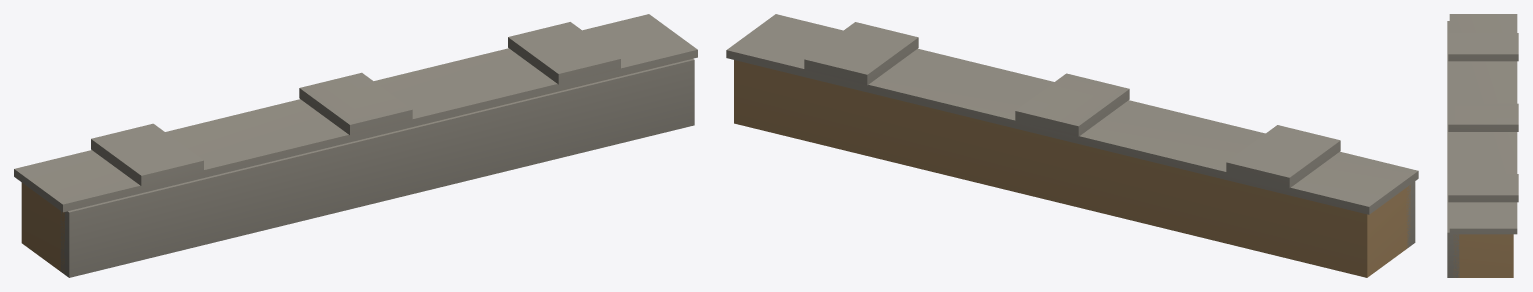
Rendered from independence_earthwork_lod1.glb.
3 renders of one model, left to right at view 1: azimuth 30°, elevation 25°; view 2: azimuth 150°, elevation 25°; view 3: azimuth 270°, elevation 25°, orthographic. The views are drawn at different scales.
Parts seen in each view (by area): view 1: GEO-Arch_independence_earthwork_LOD1; view 2: GEO-Arch_independence_earthwork_LOD1; view 3: GEO-Arch_independence_earthwork_LOD1.
Part boxes in pixels (x1=…): GEO-Arch_independence_earthwork_LOD1: x1=14, y1=14, x2=697, y2=277; GEO-Arch_independence_earthwork_LOD1: x1=726, y1=14, x2=1418, y2=277; GEO-Arch_independence_earthwork_LOD1: x1=1447, y1=14, x2=1518, y2=277.
Bounding box in the file's own units: 10.15 × 1.28 × 1.42.
